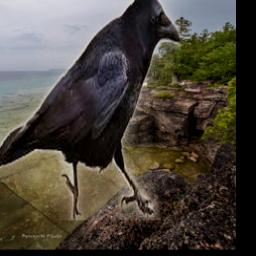Crow: (0, 0, 181, 220)
